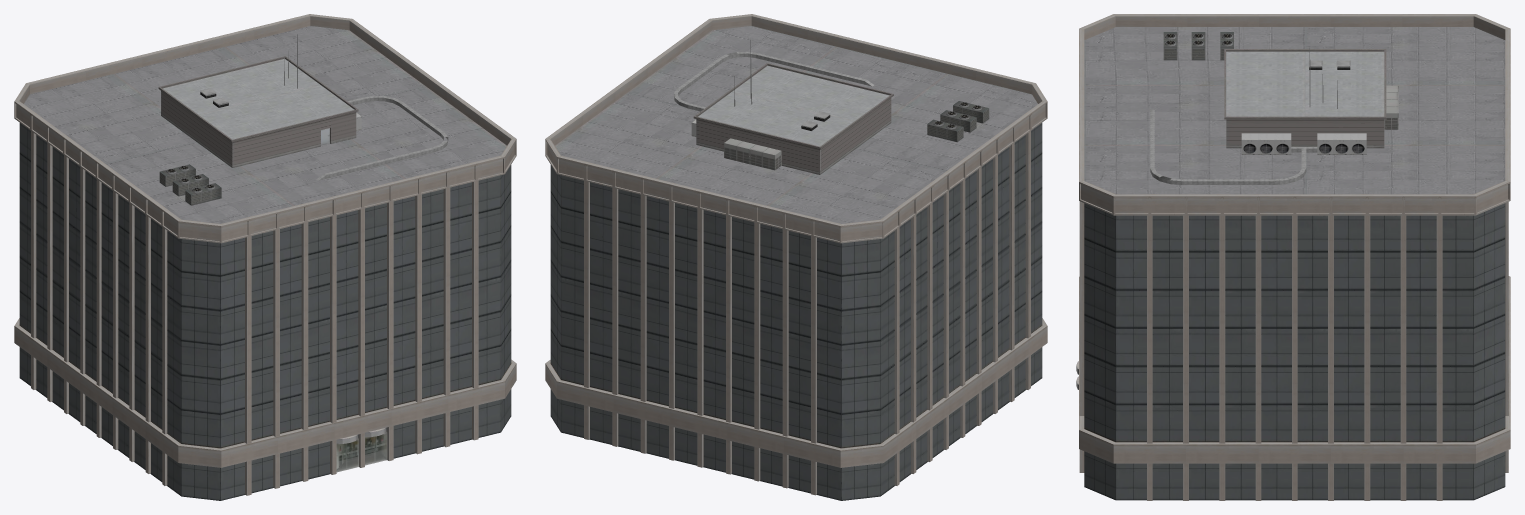
The model's file is office-l4.glb.
3 views of the same model, side by side, from view 1: azimuth 30°, elevation 25°; view 2: azimuth 150°, elevation 25°; view 3: azimuth 270°, elevation 25° (orthographic). The views are drawn at different scales.
Parts seen in each view (by area): view 1: AIT01W2W8_AIT01W2W8_0; view 2: AIT01W2W8_AIT01W2W8_0; view 3: AIT01W2W8_AIT01W2W8_0.
Part boxes in pixels (<box>): AIT01W2W8_AIT01W2W8_0: <box>14,14,516,500</box>; AIT01W2W8_AIT01W2W8_0: <box>545,14,1047,500</box>; AIT01W2W8_AIT01W2W8_0: <box>1076,14,1510,500</box>.
Bounding box in the file's own units: 32.8 × 32.73 × 33.
Materials: 1 (1 with a texture image).
